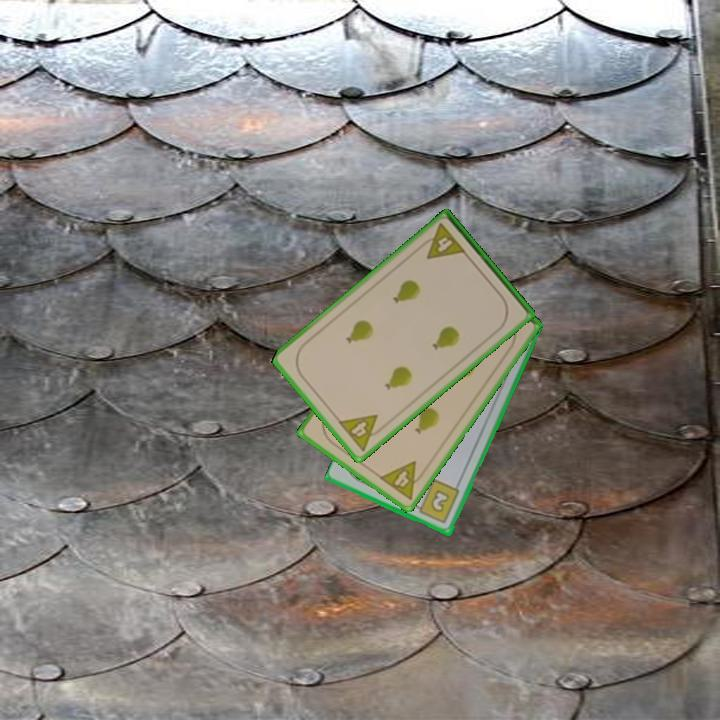2b: (411, 476, 462, 527)
4p: (376, 457, 430, 503), (334, 411, 389, 454), (416, 220, 469, 263)
